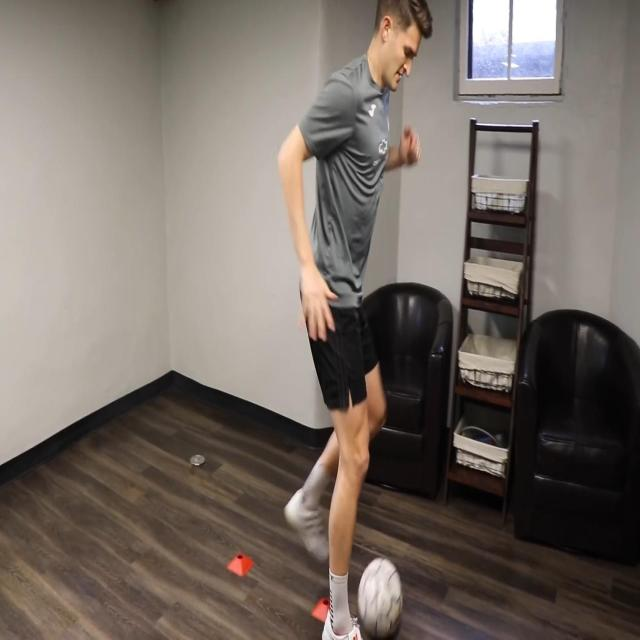Soccer Ball: (358, 557, 403, 635)
